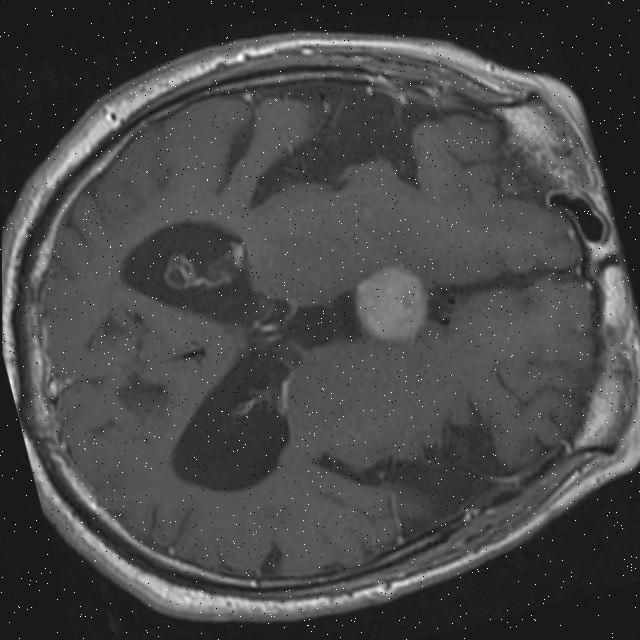Pituitary: (345, 254, 440, 352)
